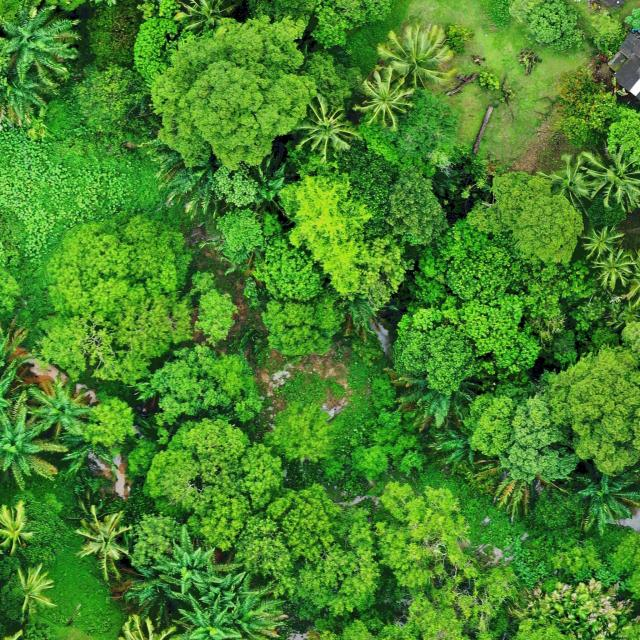0: (0, 0, 82, 88), (151, 525, 244, 595), (469, 458, 570, 522), (0, 402, 69, 490), (383, 367, 477, 431), (376, 21, 455, 92), (571, 469, 640, 537), (221, 572, 288, 640), (293, 95, 361, 161), (76, 504, 130, 583), (354, 65, 416, 133), (28, 377, 94, 439), (536, 151, 601, 212), (581, 144, 640, 210), (169, 591, 244, 640), (430, 425, 476, 472), (592, 249, 636, 288), (582, 223, 625, 260)
tree: (391, 202, 605, 396), (32, 209, 241, 385), (150, 13, 320, 168), (374, 478, 519, 640), (143, 413, 288, 552), (234, 480, 378, 616), (277, 172, 404, 313), (543, 342, 640, 476), (465, 170, 585, 267), (466, 388, 584, 483), (133, 342, 265, 426), (552, 64, 640, 157), (261, 294, 347, 357), (250, 239, 330, 304)
